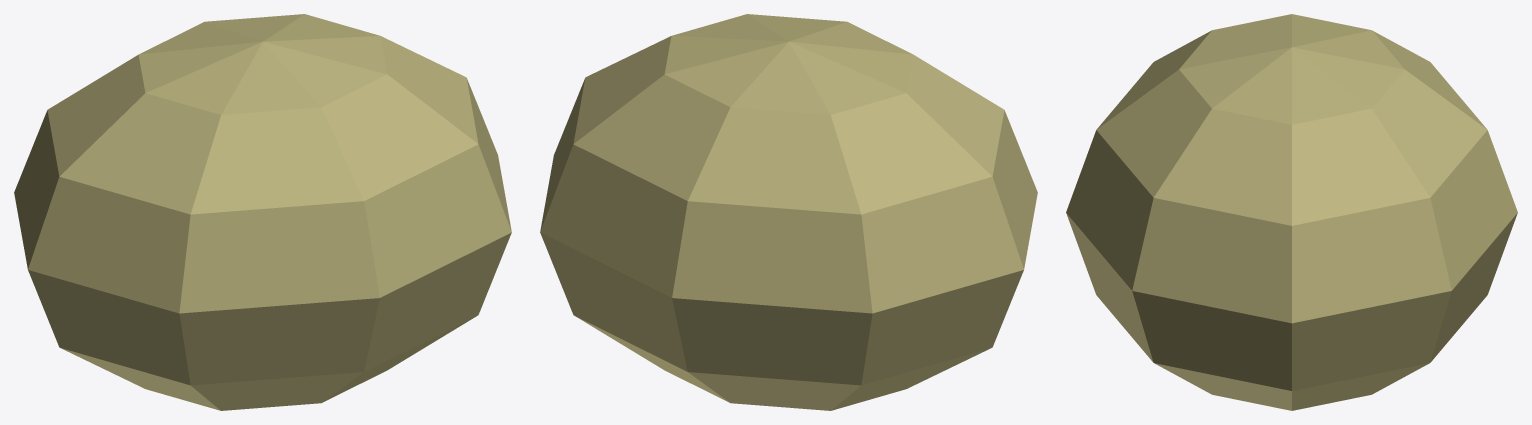
Rendered from ENV_Greenwood_Rock_B_V1.glb.
3 renders of one model, left to right at view 1: azimuth 30°, elevation 25°; view 2: azimuth 150°, elevation 25°; view 3: azimuth 270°, elevation 25°, orthographic. The views are drawn at different scales.
Parts seen in each view (by area): view 1: Rock; view 2: Rock; view 3: Rock.
Boxes of the visible parts, x1,y1,x2,y2 form: Rock: [14, 14, 511, 410]; Rock: [540, 14, 1037, 410]; Rock: [1066, 14, 1517, 410].
Size of the model in its own units: 3.6 by 2.5 by 3.1.
